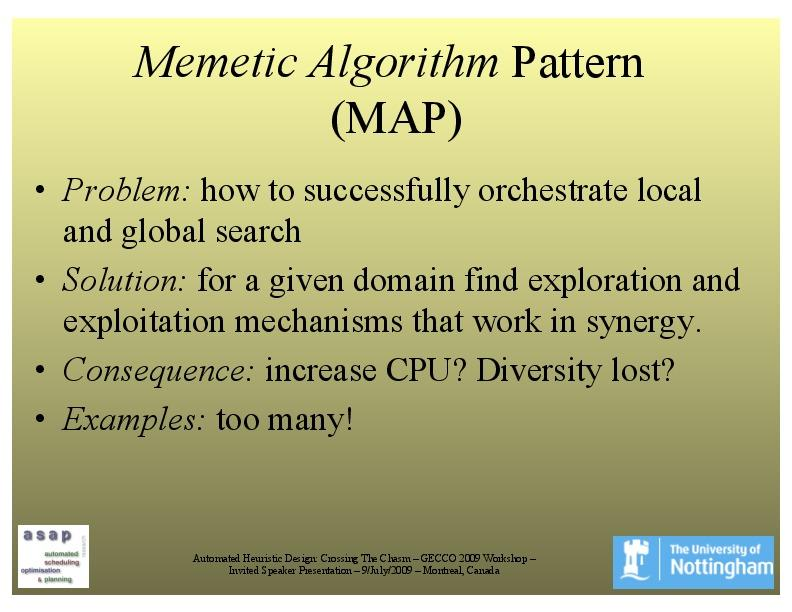paragraph: (24, 160, 763, 467)
title: (114, 27, 688, 145)
